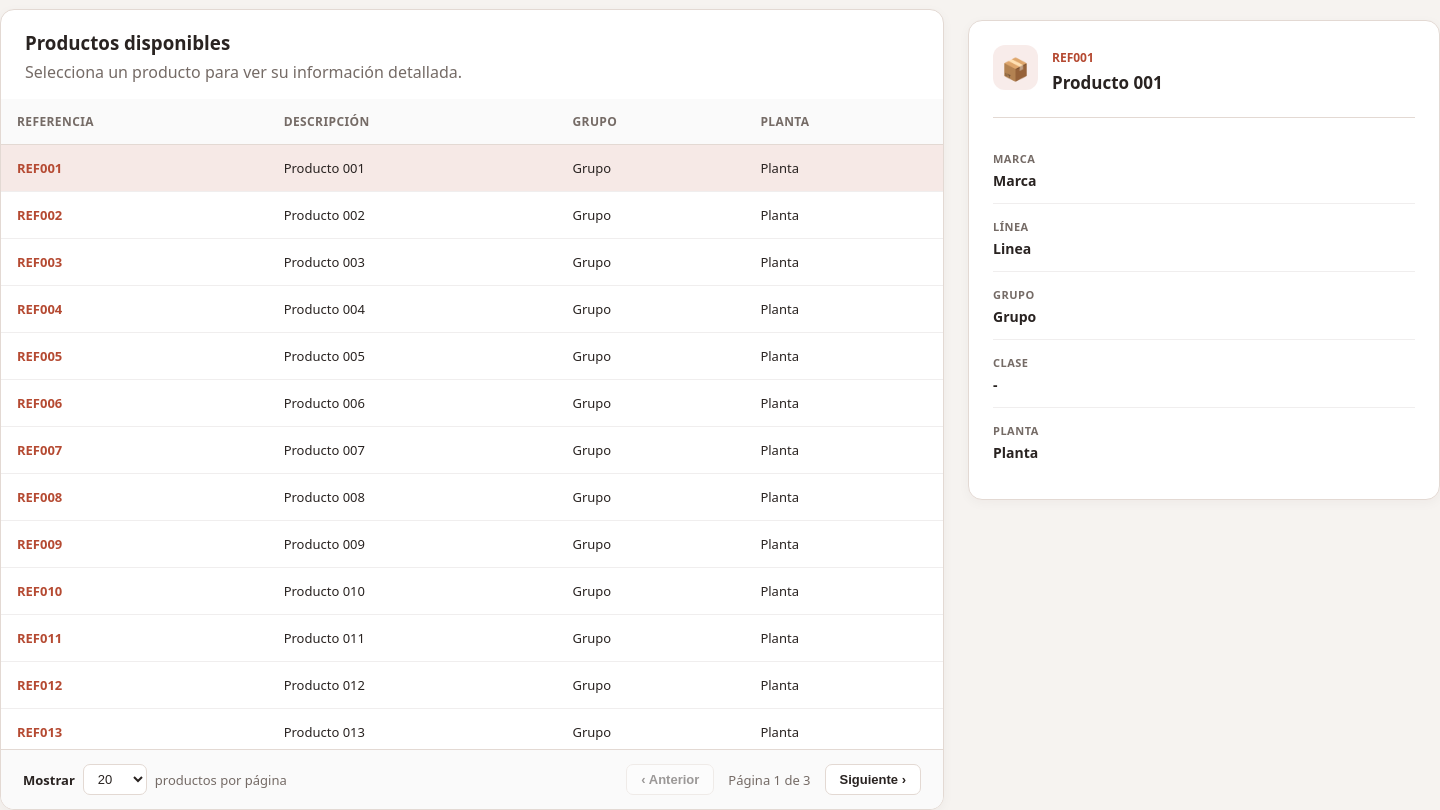
Test case: Productos › paginación › al hacer clic en 'Siguiente', muestra la página siguiente y habilita 'Anterior'
This screenshot has width=1440, height=810.
(page scrolled)
Expected: the button "‹ Anterior" is disabled, [626, 764, 714, 795]
Click the button "Siguiente ›".
click(873, 780)  # box [824, 764, 921, 795]
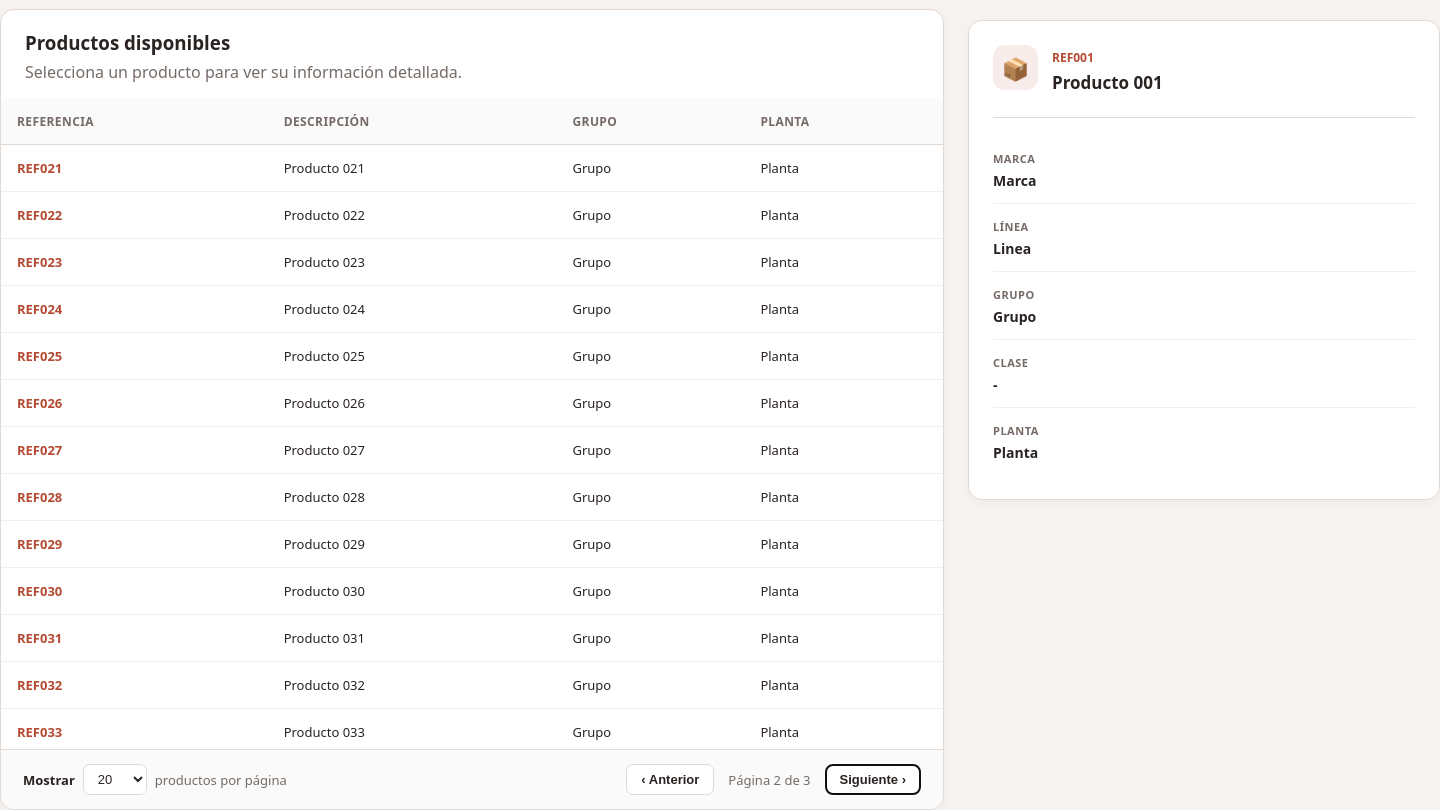
Expected: the text "Página 2 de 3" is shown, [728, 770, 811, 788]
Expected: the button "‹ Anterior" is enabled, [626, 764, 714, 795]
Expected: the text "Producto 021" is shown, [268, 144, 556, 192]
